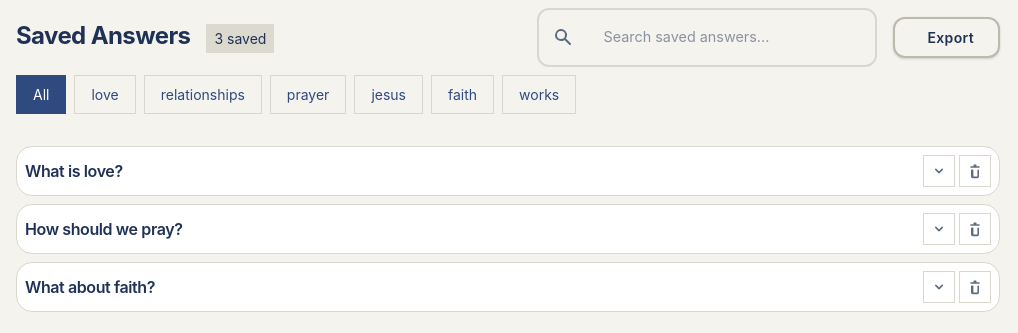
SavedAnswers.vue › shows filtered empty state when nothing matches search
Type "nonexistent term" into the search field with class "search-input" at (707, 37), box [537, 8, 877, 67]
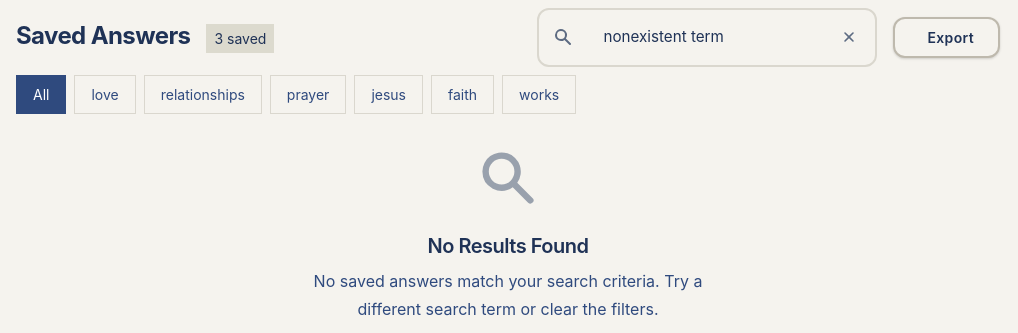
Expected: the text "No Results Found" is shown, [428, 234, 588, 258]
